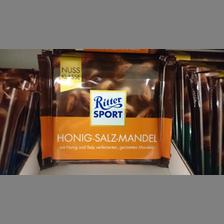Schokolade: (36, 52, 173, 168)
